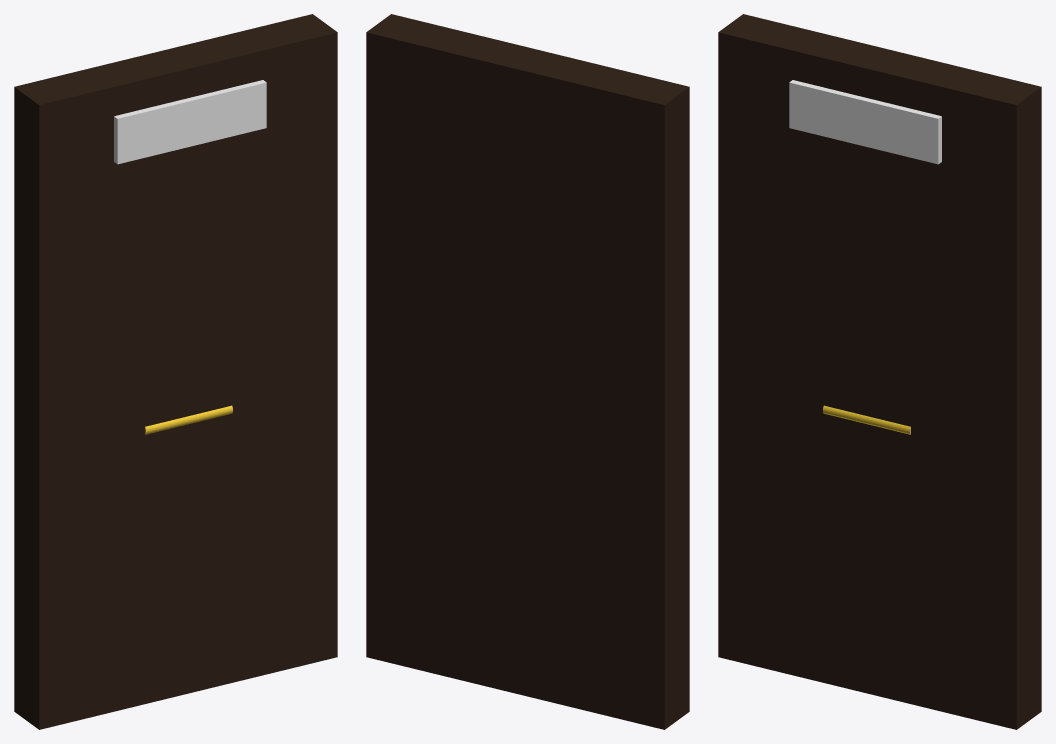
The model's file is amphi_door.obj.
The picture shows the model from 3 angles, left to right: view 1: azimuth 30°, elevation 25°; view 2: azimuth 150°, elevation 25°; view 3: azimuth 330°, elevation 25°; orthographic projection.
Parts seen in each view (by area): view 1: Cube, Cube.003; view 2: Cube; view 3: Cube, Cube.003.
Boxes of the visible parts, x1,y1,x2,y2 form: Cube: (14, 14, 337, 729); Cube.003: (114, 80, 266, 164); Cube: (366, 14, 689, 729); Cube: (718, 14, 1041, 729); Cube.003: (789, 80, 941, 164).
Size of the model in its own units: 2.4 by 4.8 by 0.4.
